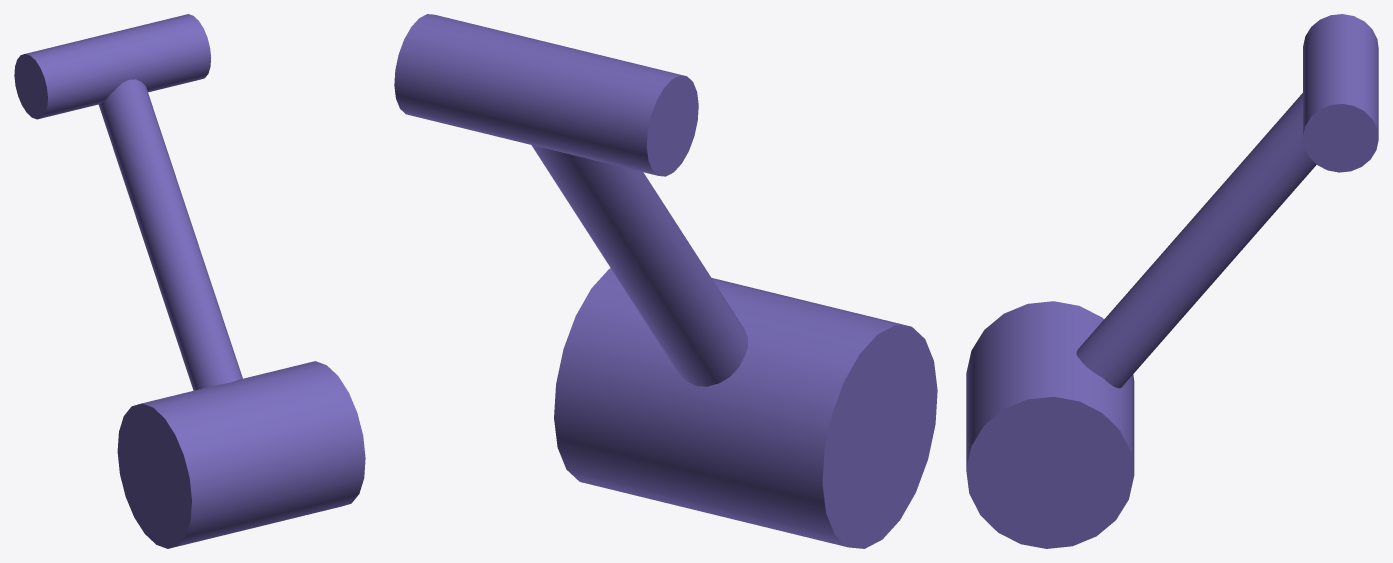
Rendered from LeverGoingLeft.fbx.
3 renders of one model, left to right at view 1: azimuth 30°, elevation 25°; view 2: azimuth 150°, elevation 25°; view 3: azimuth 270°, elevation 25°, orthographic. The views are drawn at different scales.
Parts seen in each view (by area): view 1: polySurface2; view 2: polySurface2; view 3: polySurface2.
Boxes of the visible parts, x1,y1,x2,y2 form: polySurface2: (14, 14, 365, 548); polySurface2: (394, 14, 937, 548); polySurface2: (966, 14, 1378, 548).
Bounding box in the file's own units: 1.28 × 2.76 × 2.33.
